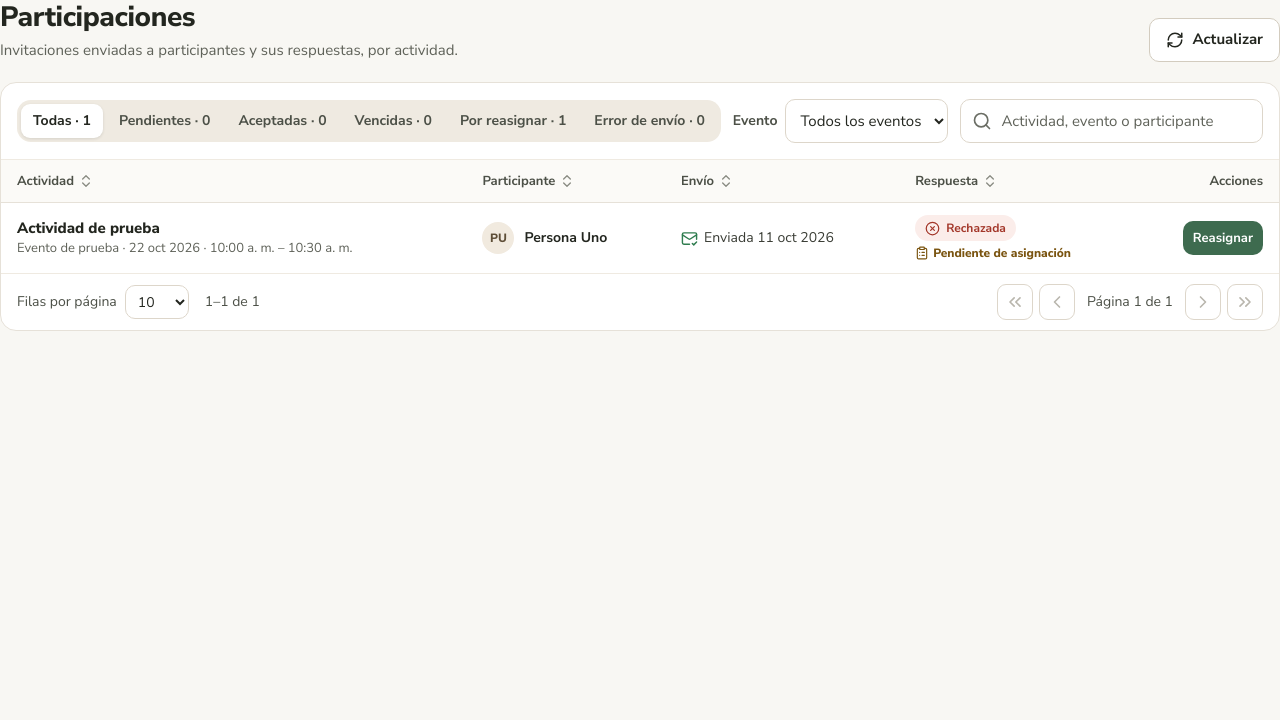
Test case: El administrador como participante › reasignarse: sin días para confirmar y con «Asignarme»
Click the button with aria-label "Reasignar Actividad de prueba" at x=1223, y=238, box [1183,221,1263,255]
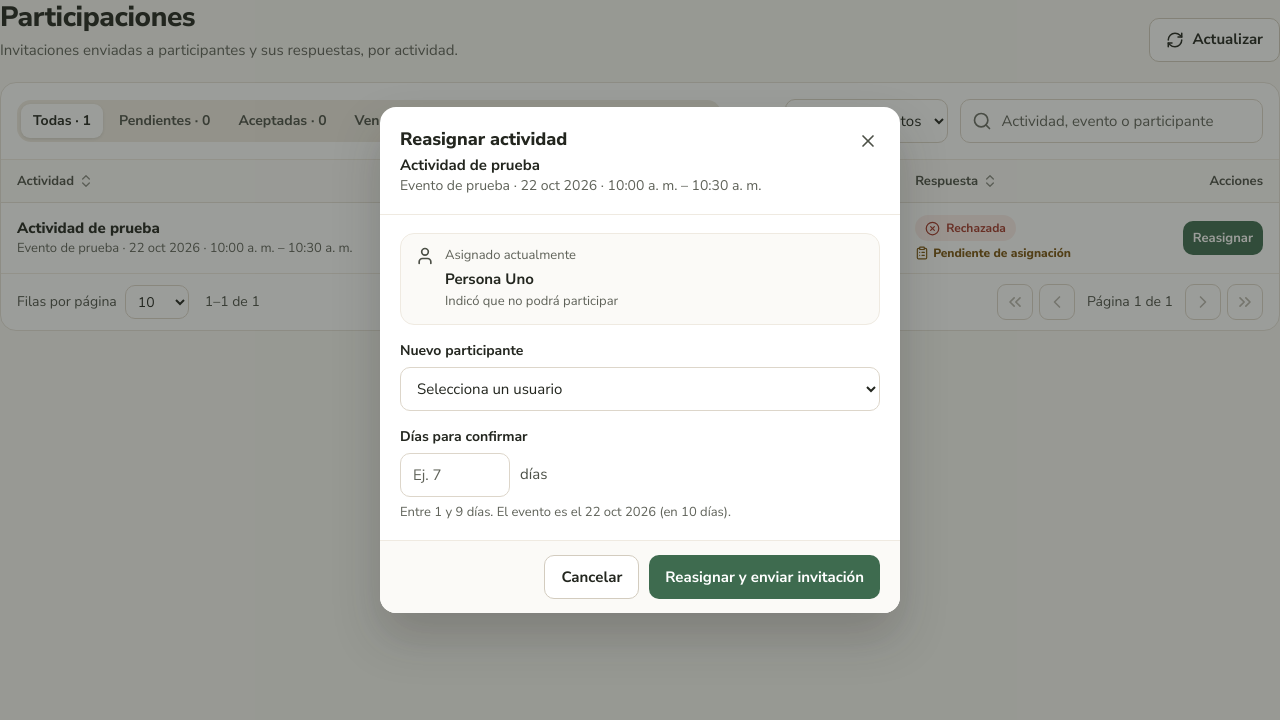
Note: Otra persona inscrita como público: se avisa del reemplazo.
Select "Persona Dos · Miembro · u-2@example.test" in the dropdown labelled "Nuevo participante" at x=640, y=389, box [400,367,880,411]
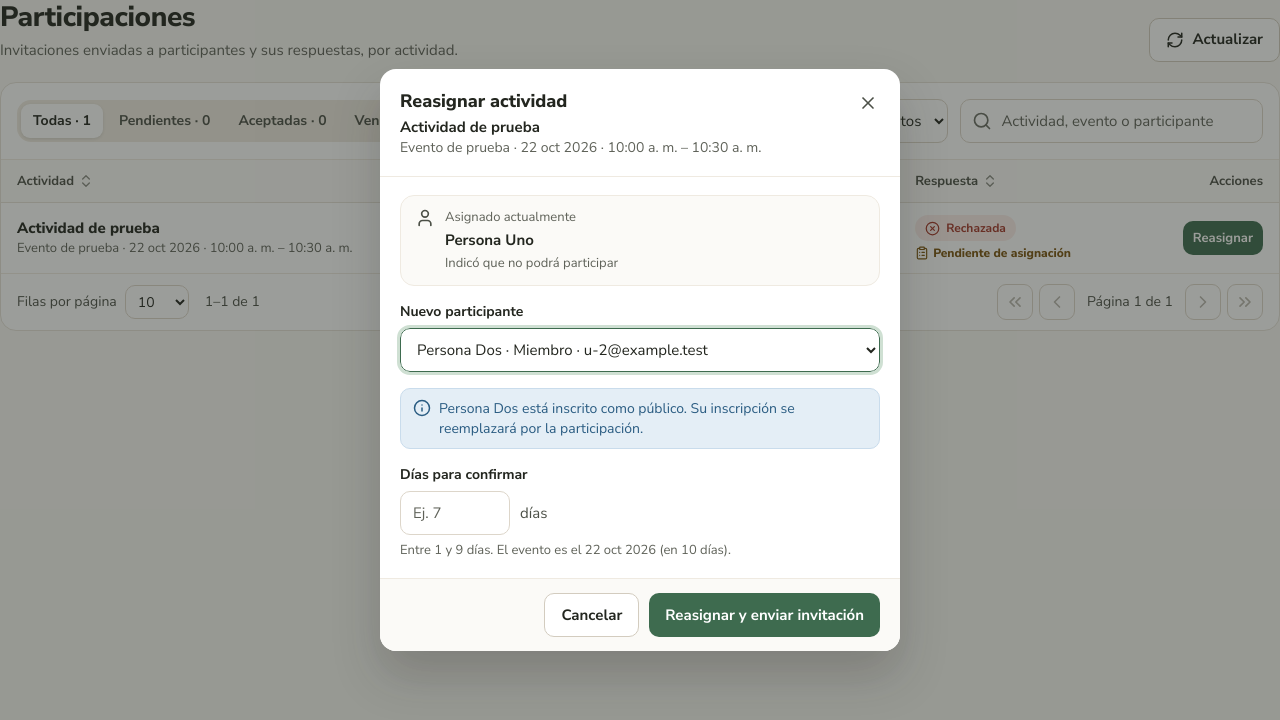
Expected: the field labelled "Días para confirmar" is shown, [400,491,510,535]
Expected: the text "Persona Dos está inscrito como público. Su inscripción se reemplazará por la participación." is shown, [439,400,795,438]
Select "Usuario Prueba (Tú) · Administrador · me@example.test" in the dropdown labelled "Nuevo participante" at x=640, y=350, box [400,328,880,372]
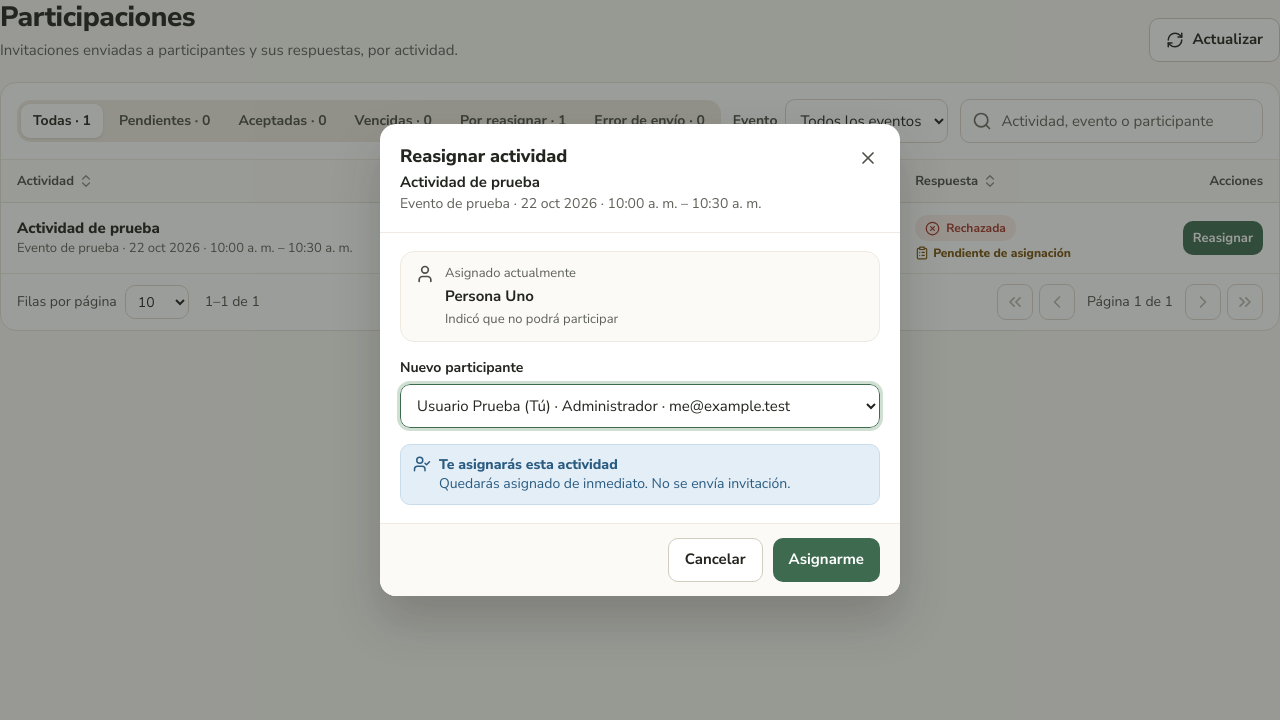
Expected: the label labelled "Días para confirmar" is gone
Expected: the text "Quedarás asignado de inmediato. No se envía invitación." is shown, [439,474,790,494]
Click the button "Asignarme" at x=826, y=560, box [773,538,880,582]
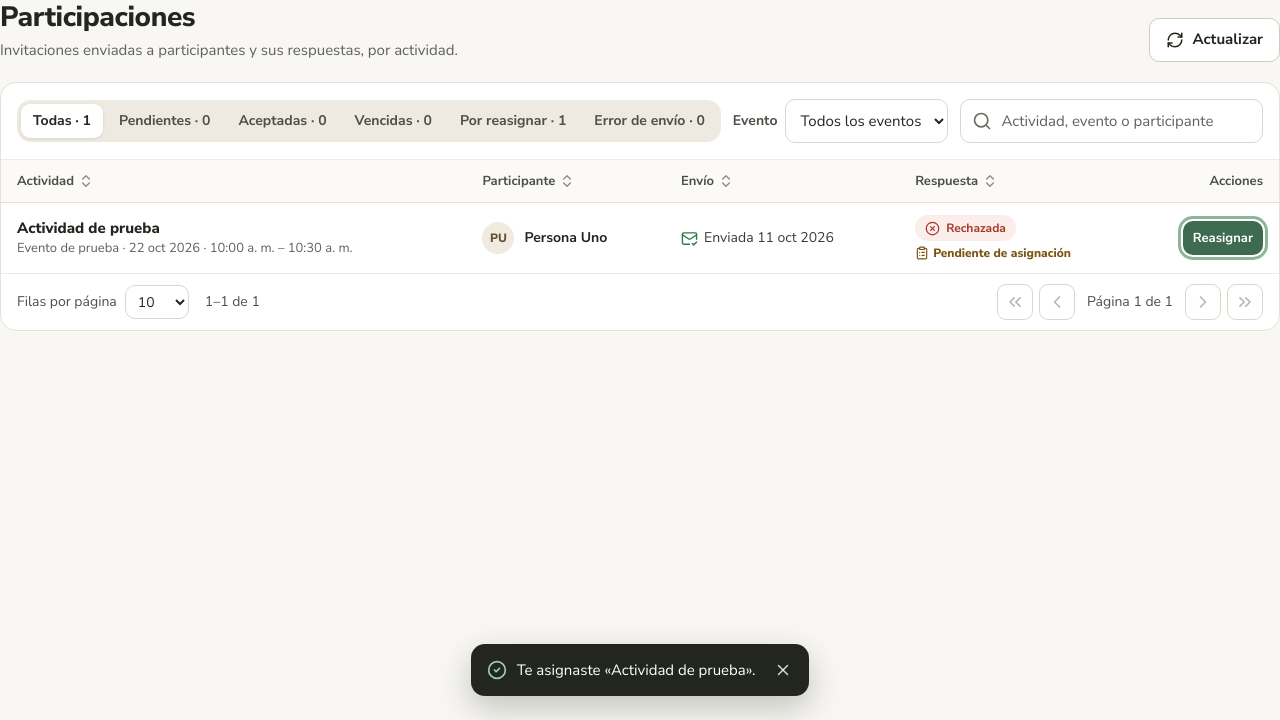
Expected: the text "Te asignaste «Actividad de prueba»." is shown, [517,654,755,686]
